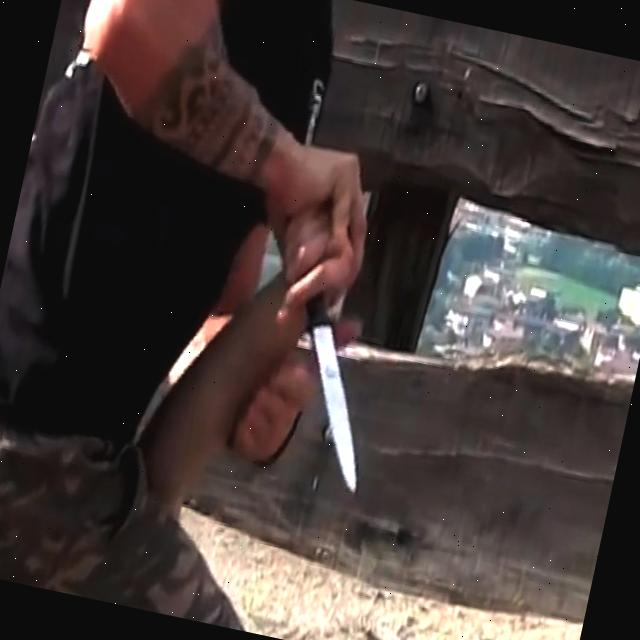suspicion: (0, 0, 457, 550), (272, 296, 398, 500)
